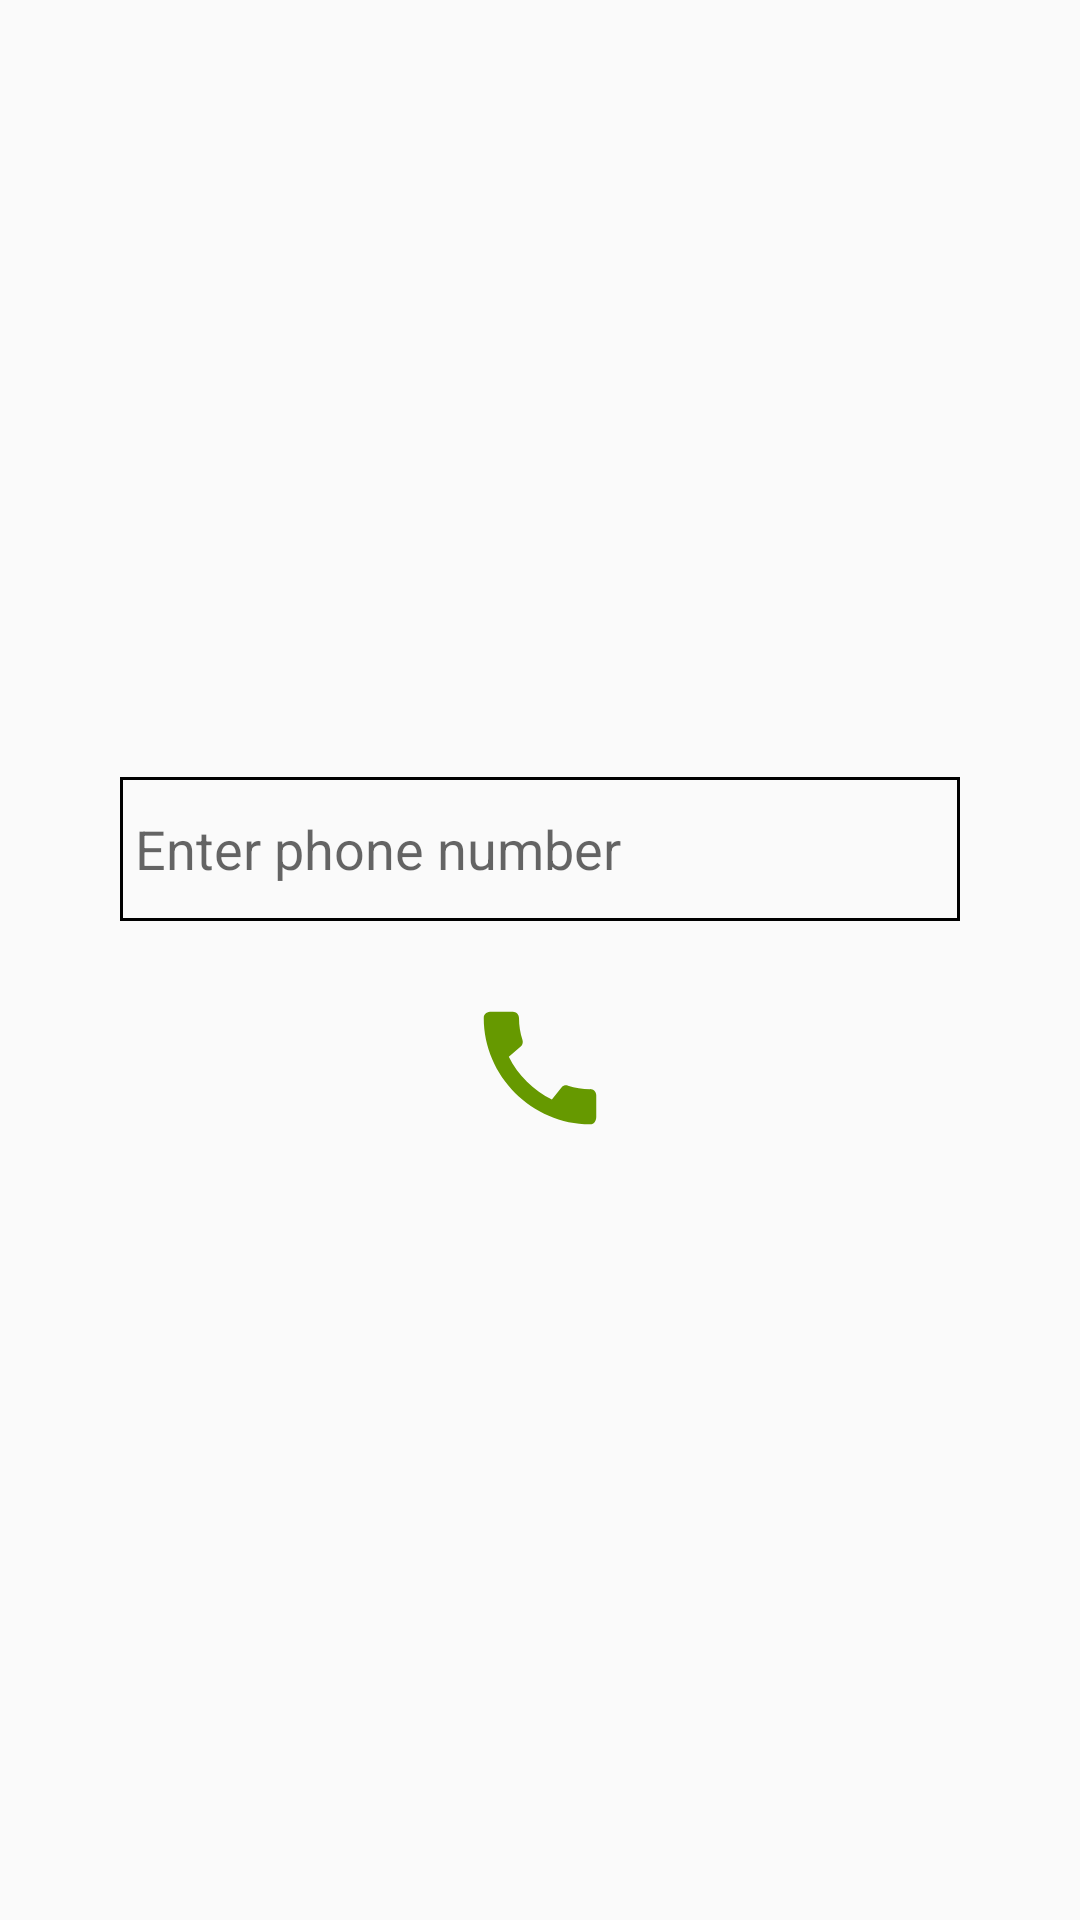

Icons on this 1080px x 1920px Android screen, each with the point to tap as (x,y):
call: (540,1068)
